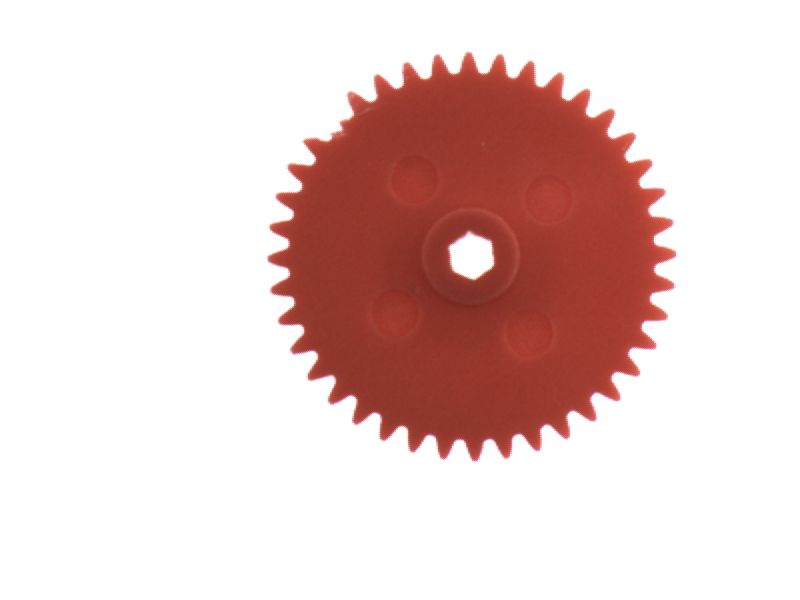defect_lack: (303, 93, 362, 151)
